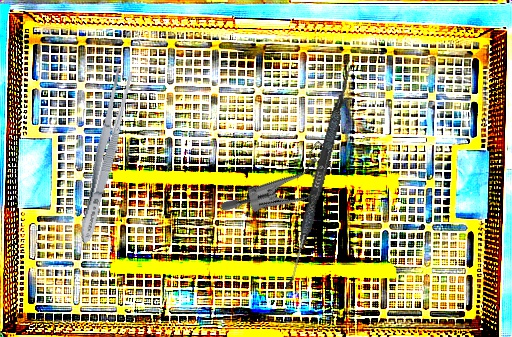Dressing Forceps: (74, 65, 136, 247)
Spatula Surgical: (285, 62, 354, 293)
Speculum: (218, 112, 345, 249)
